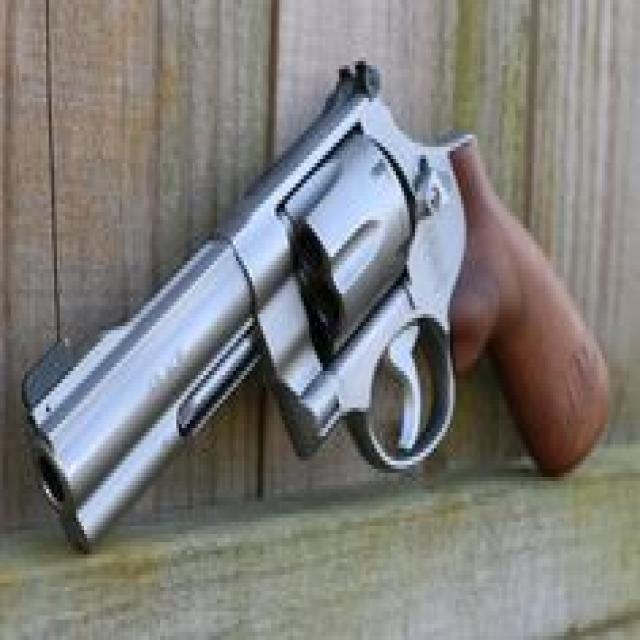revolver: (5, 11, 628, 567)
